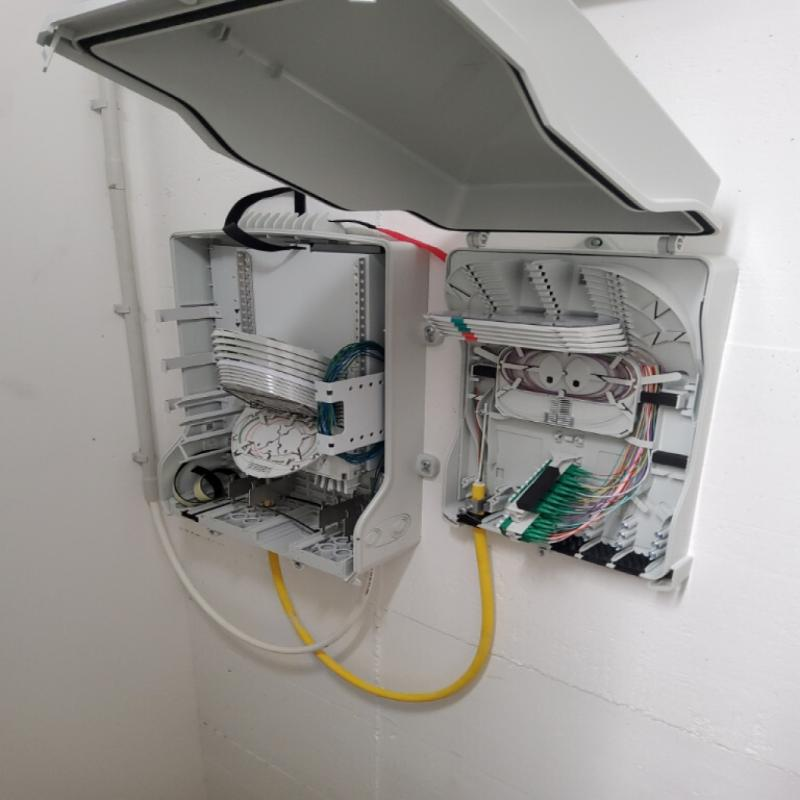NT-Gehause: (432, 244, 737, 594), (159, 222, 425, 578)
Spleiskassetten: (420, 266, 653, 458), (209, 263, 361, 498)
